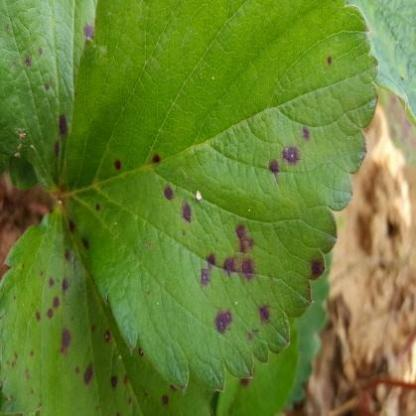Strawberry_Leaf_Spot: (58, 0, 382, 393), (0, 213, 219, 415), (0, 0, 98, 190), (218, 320, 304, 415)
